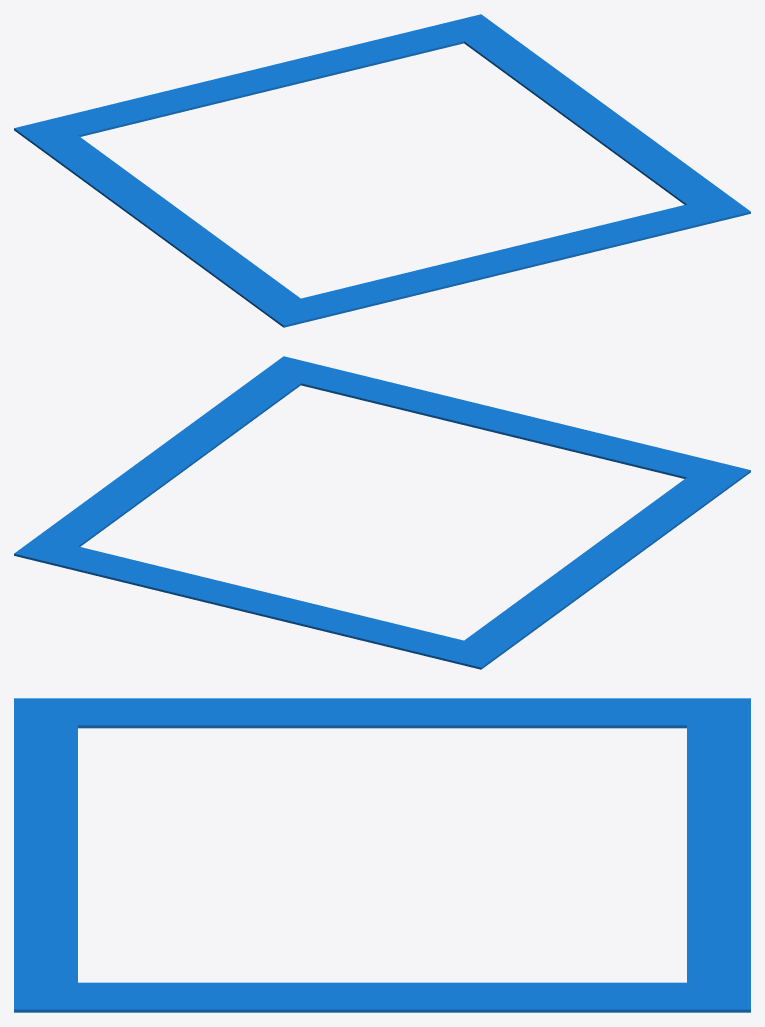
The model's file is Square.fbx.
3 renders of one model, top to bottom at view 1: azimuth 30°, elevation 25°; view 2: azimuth 150°, elevation 25°; view 3: azimuth 270°, elevation 25°, orthographic. The views are drawn at different scales.
Visible parts, largest first — view 1: Body1.528; view 2: Body1.528; view 3: Body1.528.
Part boxes in pixels (bbox=[...]): Body1.528: bbox=[14, 14, 750, 327]; Body1.528: bbox=[14, 356, 750, 669]; Body1.528: bbox=[14, 698, 750, 1012].
Bounding box in the file's own units: 0.5842 × 0.00254 × 0.5842.
